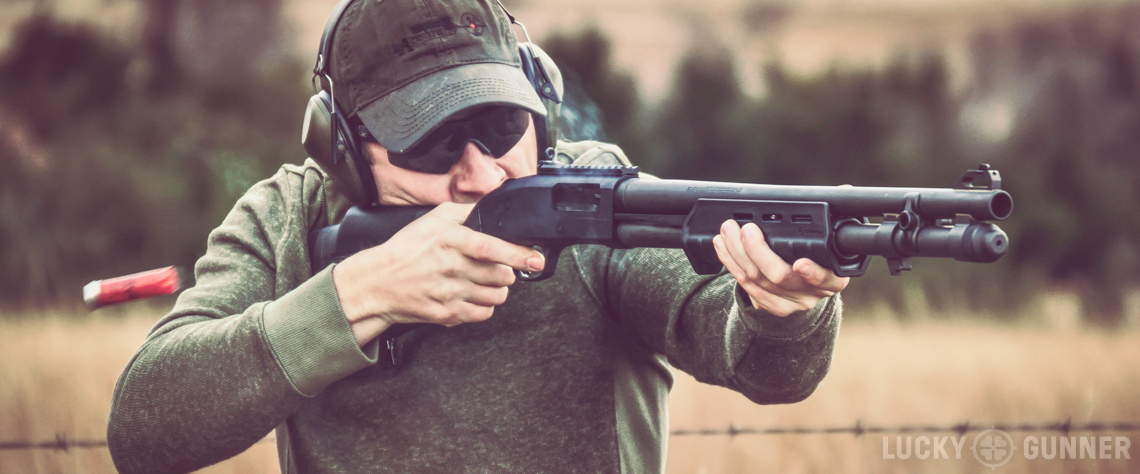weapon: (313, 164, 1013, 292)
